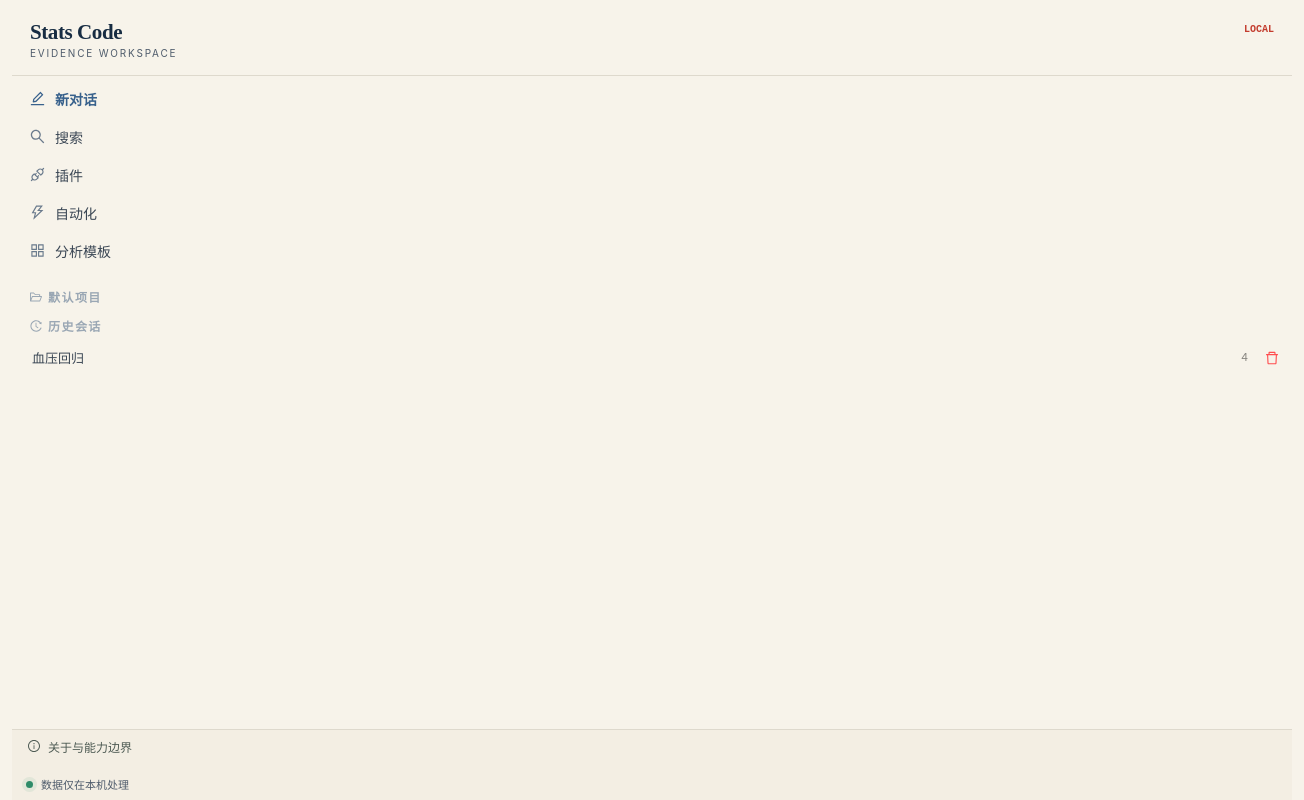
Test case: SimpleSidebar (Requirements 2.1, 2.2, 9.6) › surfaces the structured API reason and reconciles the list when deletion fails
The image size is (1304, 800).
Click the button named "删除会话: 血压回归" at (1272, 358), box x1=1260 y1=346 x2=1284 y2=370
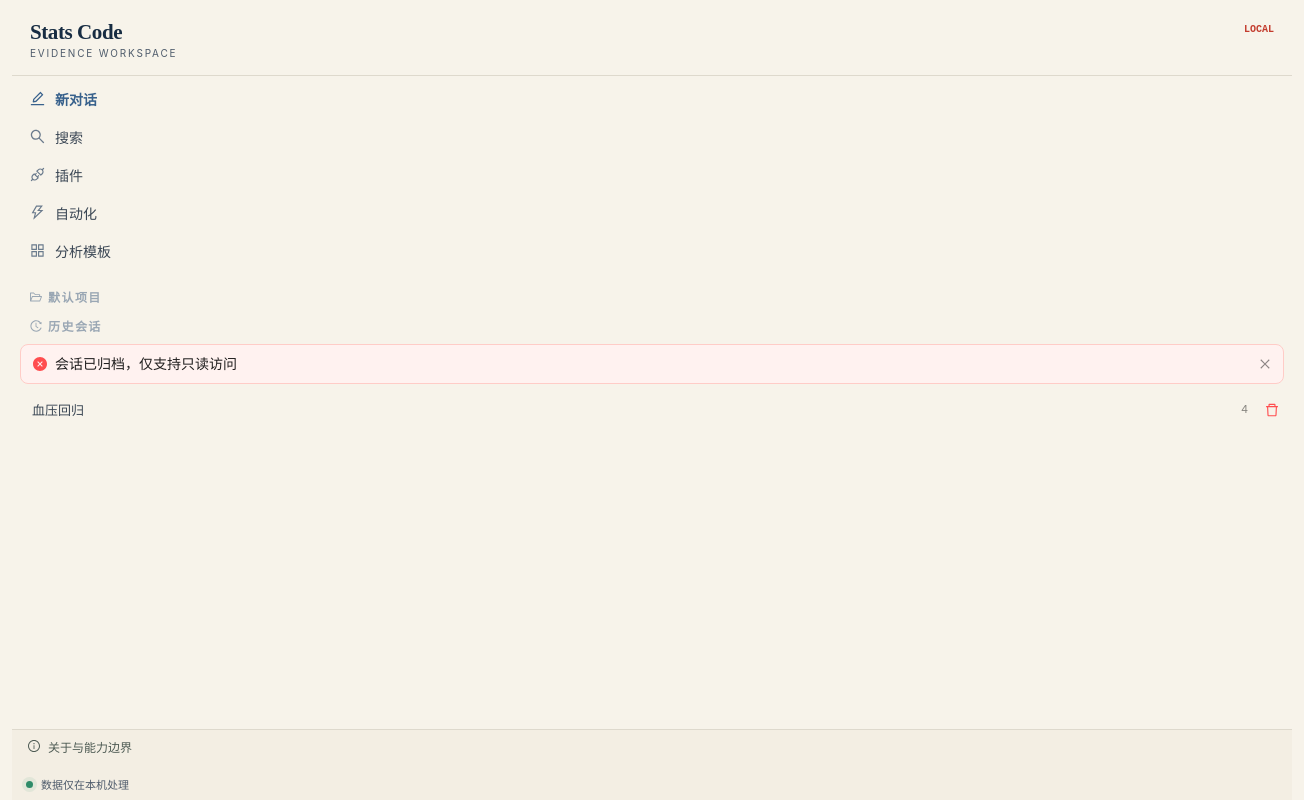
Result: the message "会话已归档，仅支持只读访问" is shown at x1=20 y1=344 x2=1284 y2=384
